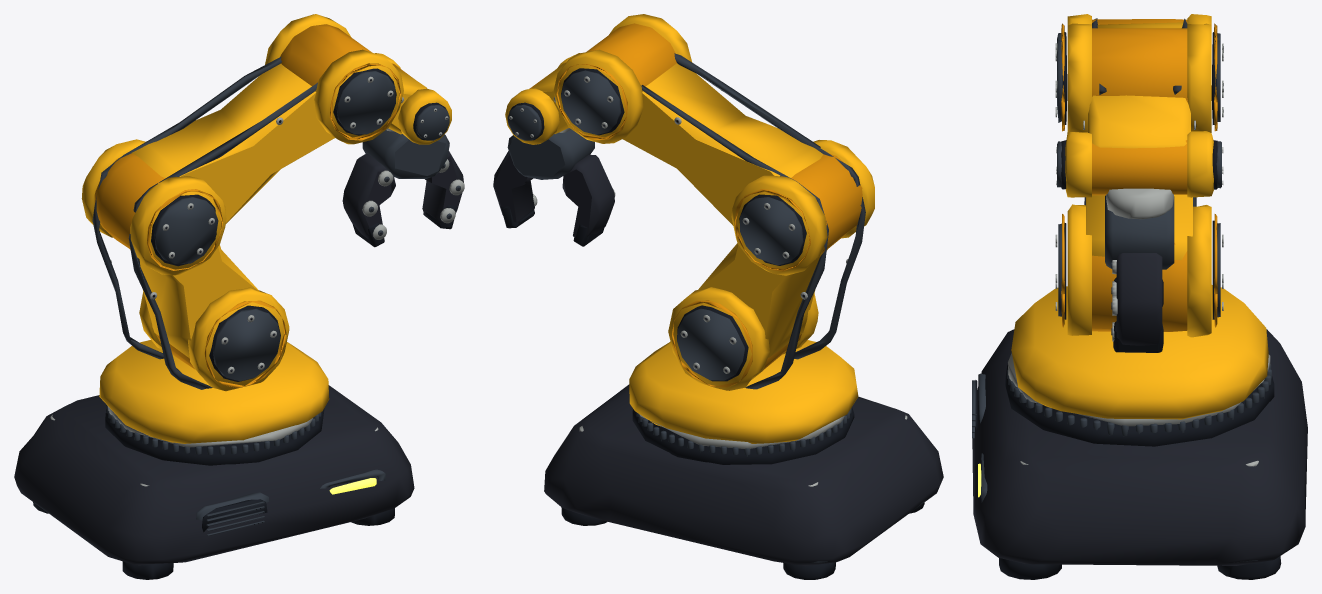
File: robot-arm.glb
3 renders of one model, left to right at view 1: azimuth 30°, elevation 25°; view 2: azimuth 150°, elevation 25°; view 3: azimuth 270°, elevation 25°, orthographic. The views are drawn at different scales.
Parts seen in each view (by area): view 1: Anti-slip foot, Curved pitch output cap, Angled gripper carrier, Machined trim around port; view 2: Anti-slip foot, Curved pitch output cap, Angled gripper carrier, Machined trim around port; view 3: Anti-slip foot, Curved pitch output cap, Machined trim around port, Angled gripper carrier.
Part boxes in pixels (bbox=[...]): Anti-slip foot: bbox=[14, 68, 464, 579]; Curved pitch output cap: bbox=[81, 14, 451, 443]; Angled gripper carrier: bbox=[35, 57, 460, 547]; Machined trim around port: bbox=[94, 24, 413, 387]; Anti-slip foot: bbox=[493, 68, 943, 579]; Curved pitch output cap: bbox=[505, 14, 874, 443]; Angled gripper carrier: bbox=[507, 53, 926, 562]; Machined trim around port: bbox=[529, 23, 862, 387]; Anti-slip foot: bbox=[972, 32, 1307, 579]; Curved pitch output cap: bbox=[1011, 14, 1268, 419]; Machined trim around port: bbox=[1061, 19, 1217, 331]; Angled gripper carrier: bbox=[972, 18, 1271, 563].
Bounding box in the file's own units: 0.5666 × 0.605 × 0.3391.
Materials: 5 (5 with a texture image).
